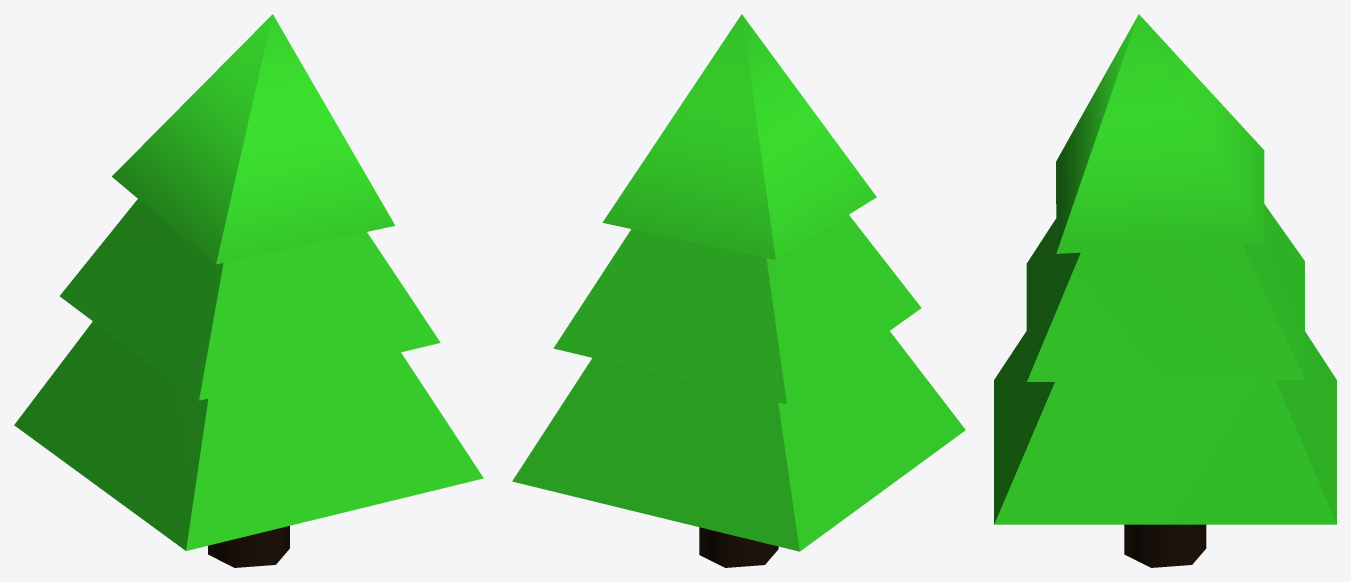
File: tree_large.FBX
3 renders of one model, left to right at view 1: azimuth 30°, elevation 25°; view 2: azimuth 150°, elevation 25°; view 3: azimuth 270°, elevation 25°, orthographic. The views are drawn at different scales.
Parts seen in each view (by area): view 1: Zylinder001; view 2: Zylinder001; view 3: Zylinder001.
Boxes of the visible parts, left/top/right/bottom form: Zylinder001: left=14, top=14, right=483, bottom=567; Zylinder001: left=512, top=14, right=965, bottom=567; Zylinder001: left=994, top=14, right=1336, bottom=567.
Size of the model in its own units: 1.45 by 1.45 by 2.54.
